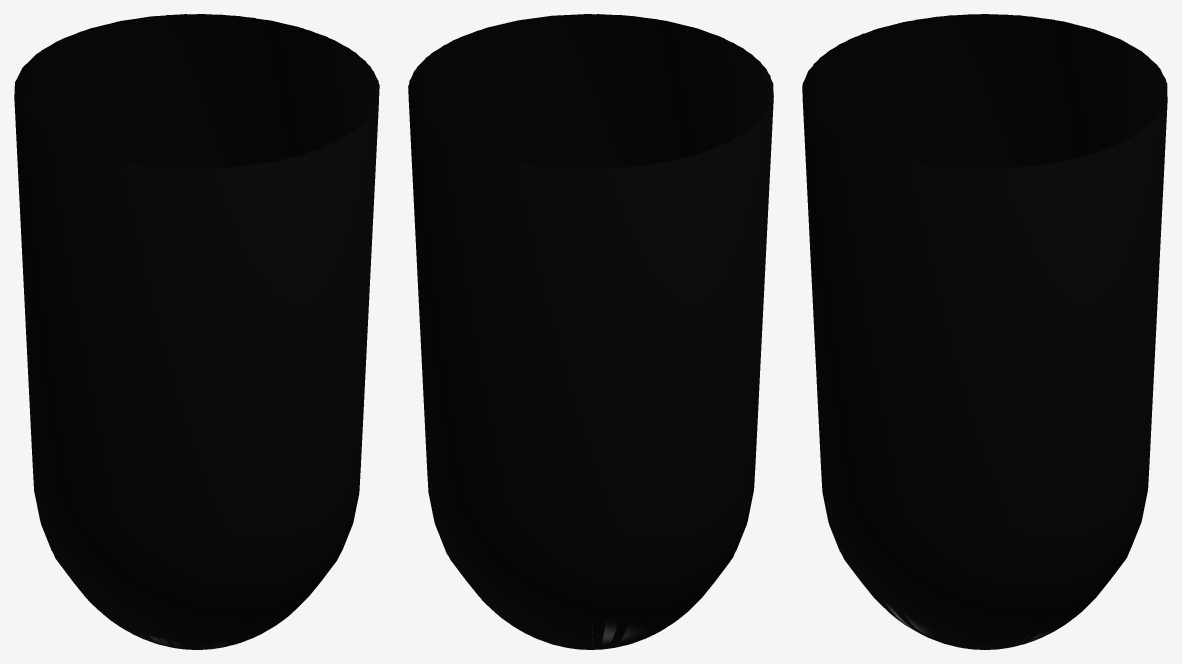
The model's file is p_mesh_plasmadrill_laserbeam_diameter_trail01.fbx.
3 views of the same model, side by side, from view 1: azimuth 30°, elevation 25°; view 2: azimuth 150°, elevation 25°; view 3: azimuth 270°, elevation 25° (orthographic).
Visible parts, largest first — view 1: plasmadrill_diameter; view 2: plasmadrill_diameter; view 3: plasmadrill_diameter.
Part boxes in pixels (x1,y1,x2,y2): plasmadrill_diameter: [14, 14, 379, 649]; plasmadrill_diameter: [408, 14, 773, 649]; plasmadrill_diameter: [802, 14, 1167, 649].
Size of the model in its own units: 13.81 by 22.36 by 13.79.
Materials: 2 (2 with a texture image).
